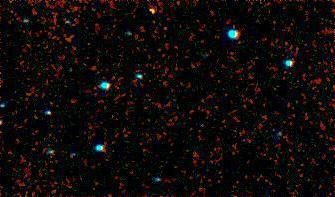star: (141, 3, 171, 33)
